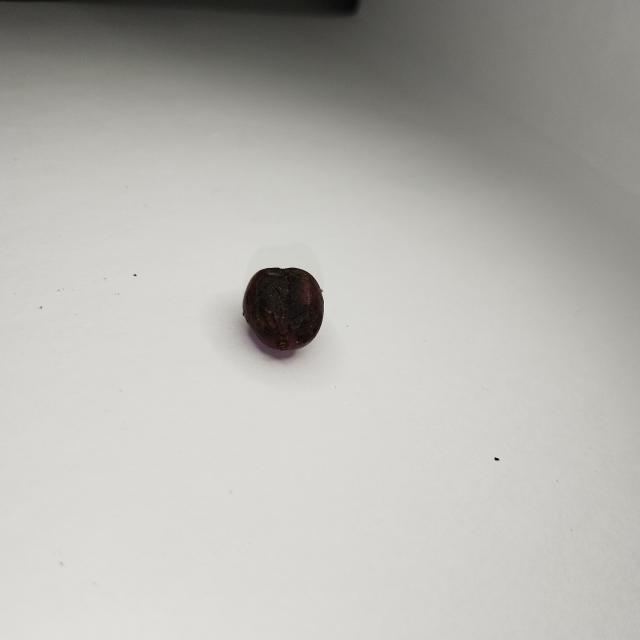Danado: (242, 266, 324, 358)
